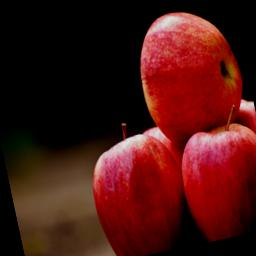Apple Ripe: (75, 110, 212, 256), (130, 0, 252, 147)
